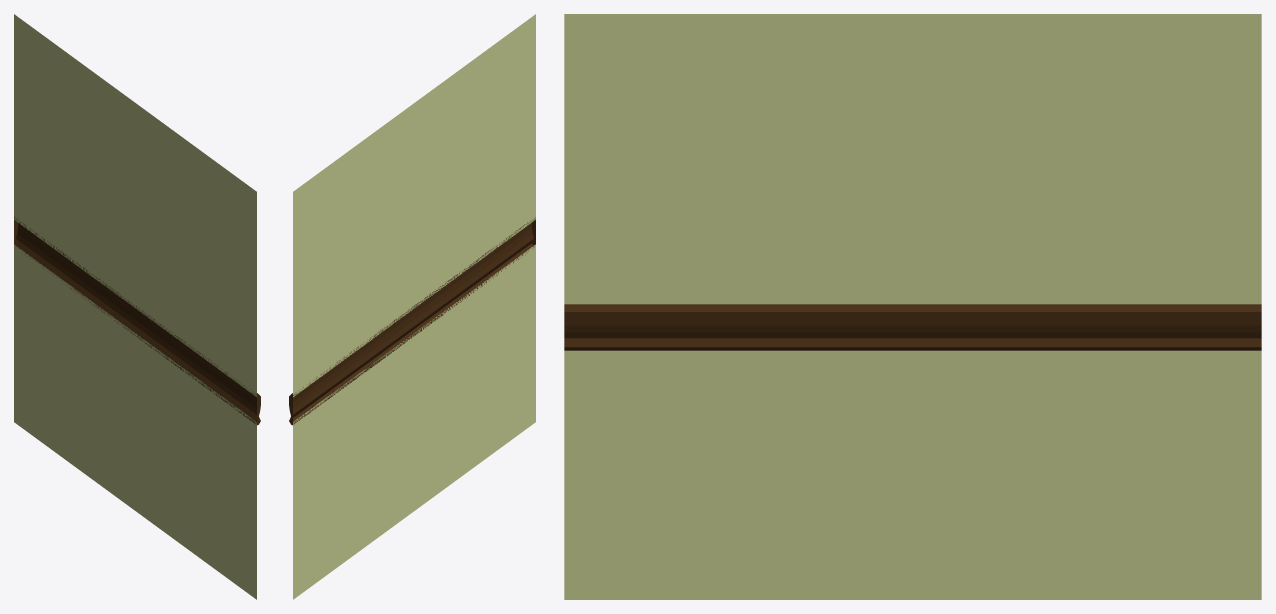
File: Wall.fbx
The picture shows the model from 3 angles, left to right: view 1: azimuth 30°, elevation 25°; view 2: azimuth 150°, elevation 25°; view 3: azimuth 270°, elevation 25°; orthographic projection. The views are drawn at different scales.
Parts seen in each view (by area): view 1: Wall_Obj; view 2: Wall_Obj; view 3: Wall_Obj.
Boxes of the visible parts, bbox=[...] form: Wall_Obj: bbox=[14, 14, 260, 599]; Wall_Obj: bbox=[289, 14, 535, 599]; Wall_Obj: bbox=[564, 14, 1261, 599].
Bounding box in the file's own units: 3.79 × 371 × 400.
